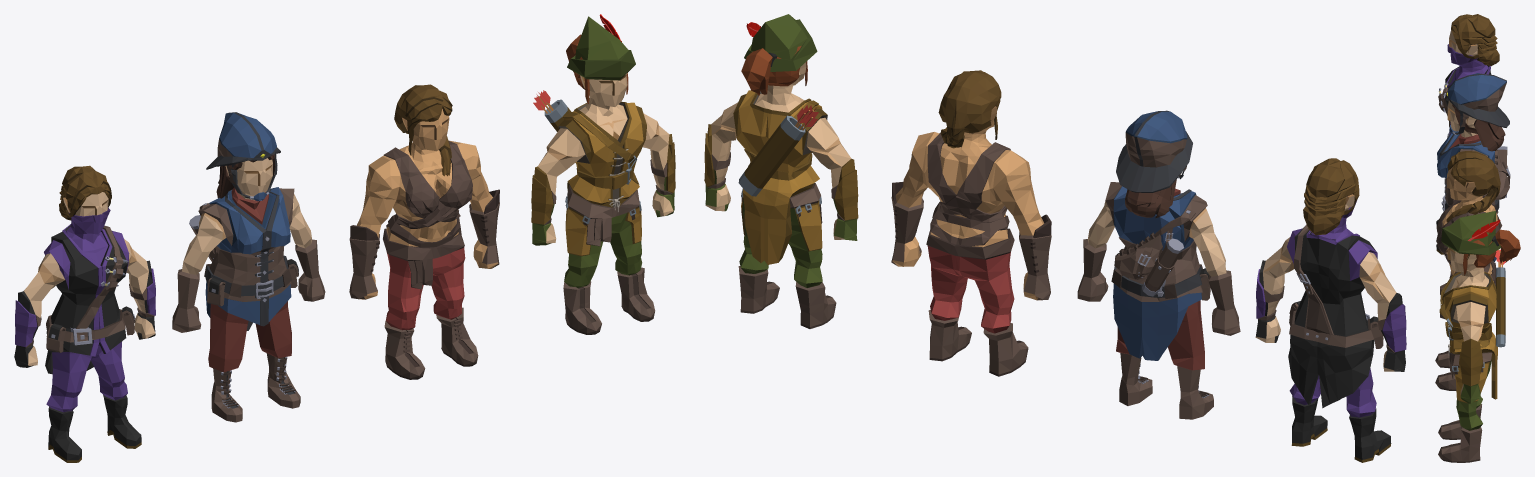
Rendered from Player_meshes_female_v2.fbx.
3 views of the same model, side by side, from view 1: azimuth 30°, elevation 25°; view 2: azimuth 150°, elevation 25°; view 3: azimuth 270°, elevation 25° (orthographic). The views are drawn at different scales.
Visible parts, largest first — view 1: warrior_02a_female03t, rogue_03a_female02t, archer_03_female02t:archer_female, mage_05a_female03t:mage_female, mage_05a_female03t:mage_hat, archer_03_female02t:archer_hat; view 2: warrior_02a_female03t, rogue_03a_female02t, archer_03_female02t:archer_female, mage_05a_female03t:mage_female, mage_05a_female03t:mage_hat, archer_03_female02t:archer_hat; view 3: archer_03_female02t:archer_female, warrior_02a_female03t, mage_05a_female03t:mage_female, rogue_03a_female02t, mage_05a_female03t:mage_hat, archer_03_female02t:archer_hat.
Part boxes in pixels (x1,y1,x2,y2): warrior_02a_female03t: (349, 84, 499, 379); rogue_03a_female02t: (14, 165, 155, 462); archer_03_female02t:archer_female: (531, 34, 675, 334); mage_05a_female03t:mage_female: (172, 154, 325, 422); mage_05a_female03t:mage_hat: (206, 112, 280, 201); archer_03_female02t:archer_hat: (567, 14, 635, 80); warrior_02a_female03t: (891, 70, 1051, 376); rogue_03a_female02t: (1255, 158, 1406, 462); archer_03_female02t:archer_female: (704, 46, 858, 328); mage_05a_female03t:mage_female: (1077, 173, 1240, 419); mage_05a_female03t:mage_hat: (1116, 110, 1192, 192); archer_03_female02t:archer_hat: (744, 14, 817, 71); archer_03_female02t:archer_female: (1438, 229, 1520, 462); warrior_02a_female03t: (1435, 151, 1502, 390); mage_05a_female03t:mage_female: (1437, 100, 1510, 319); rogue_03a_female02t: (1436, 14, 1499, 254); mage_05a_female03t:mage_hat: (1446, 73, 1509, 134); archer_03_female02t:archer_hat: (1441, 211, 1501, 255).
Bounding box in the file's own units: 2220 × 924 × 303.
